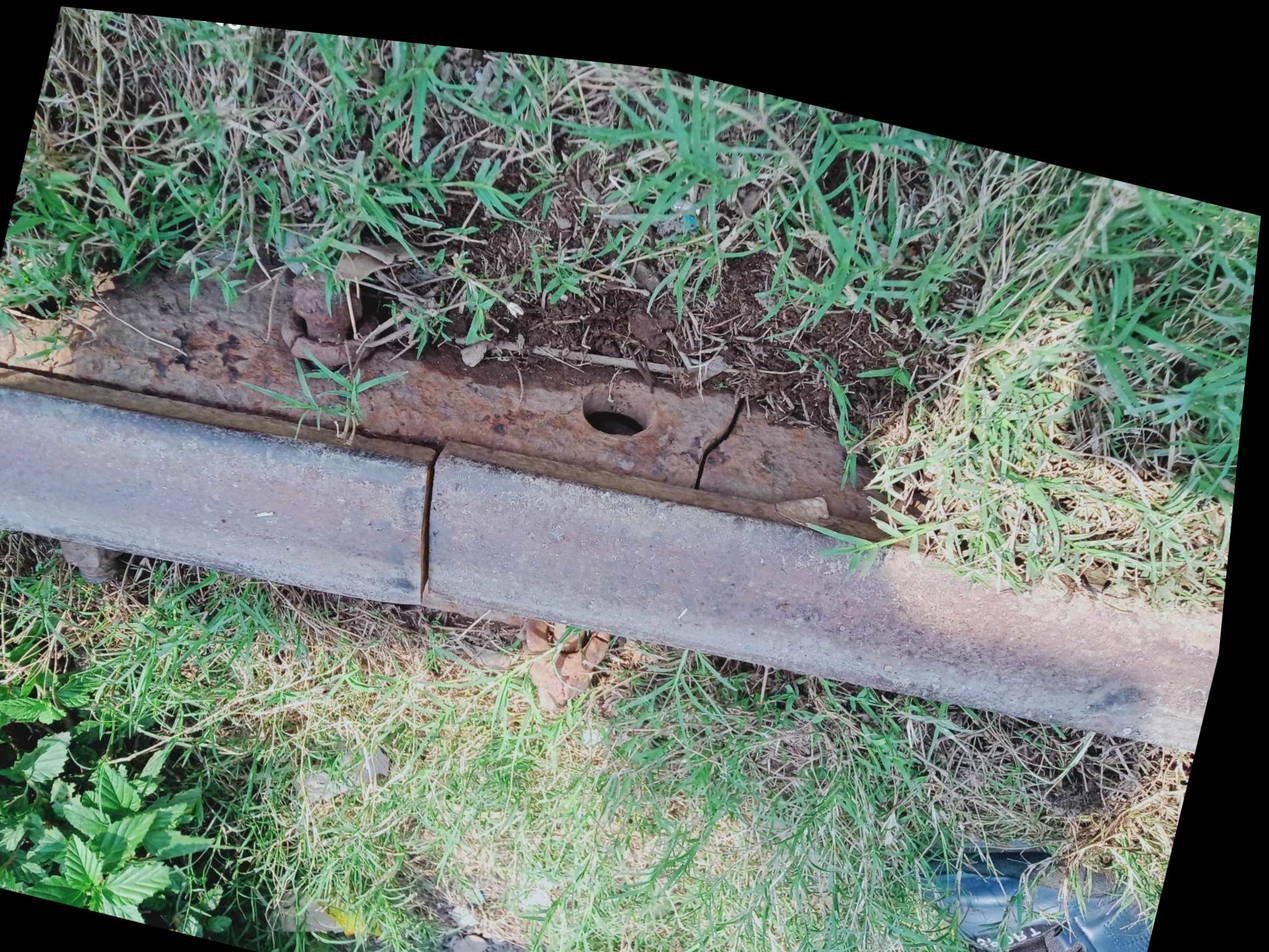person: (307, 384, 571, 653), (638, 327, 820, 517)
